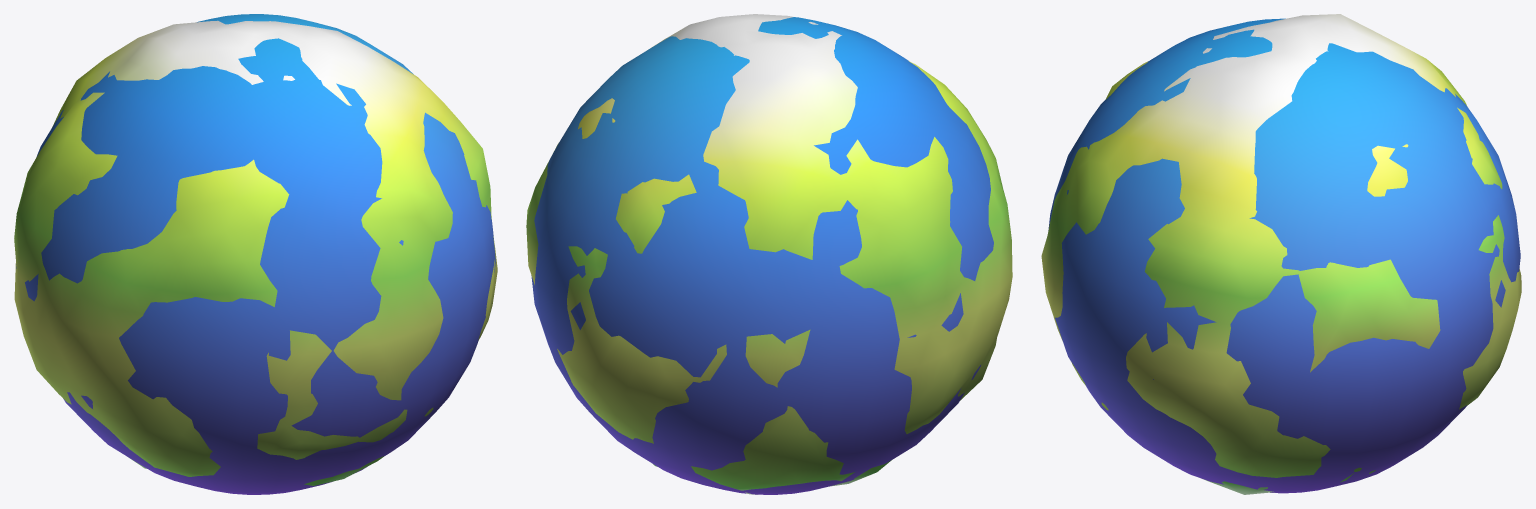
The model's file is procedural-terrain-title.glb.
3 renders of one model, left to right at view 1: azimuth 30°, elevation 25°; view 2: azimuth 150°, elevation 25°; view 3: azimuth 270°, elevation 25°, orthographic.
Visible parts, largest first — view 1: water, land; view 2: water, land; view 3: water, land.
Boxes of the visible parts, <box> form: water: <box>16,14,495,494</box>; land: <box>14,20,497,485</box>; water: <box>531,17,993,494</box>; land: <box>526,14,1012,494</box>; water: <box>1048,18,1520,493</box>; land: <box>1041,14,1521,494</box>.
Bounding box in the file's own units: 2.09 × 2.11 × 2.1.
